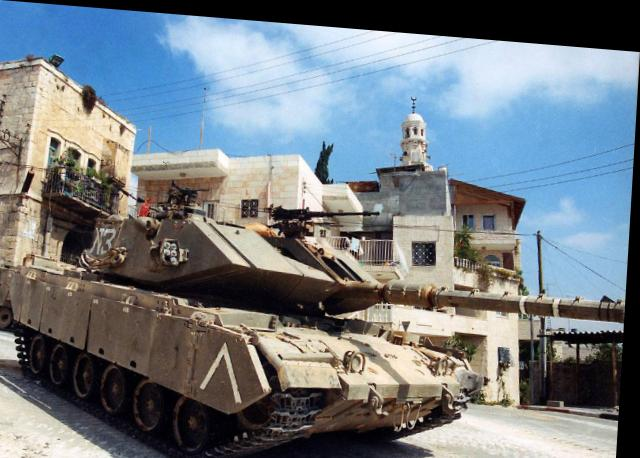tank: (0, 193, 495, 456)
